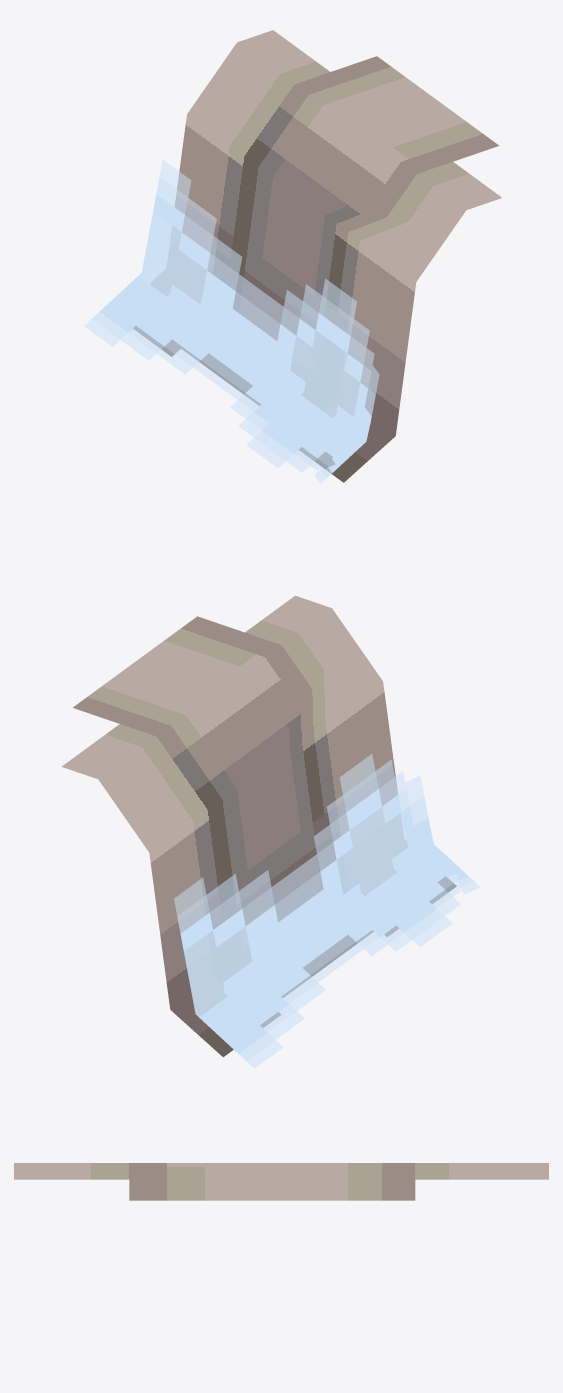
The picture shows the model from 3 angles, top to bottom: view 1: azimuth 30°, elevation 25°; view 2: azimuth 150°, elevation 25°; view 3: azimuth 270°, elevation 25°; orthographic projection. The views are drawn at different scales.
Size of the model in its own units: 0.7705 by 0.7266 by 1.
2 materials, 2 textured.
